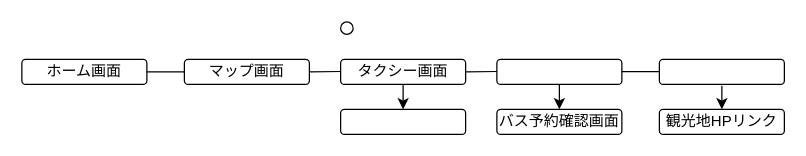
Some shapes in this 806 by 156 pixel diagram are drawn without their labels. The box of each missing label's shape, as (x1, y1, x2, y2) in pixels:
バス予約画面: (496, 58, 622, 84)
観光地紹介画面: (658, 58, 784, 84)
運賃確認画面: (339, 108, 466, 134)
